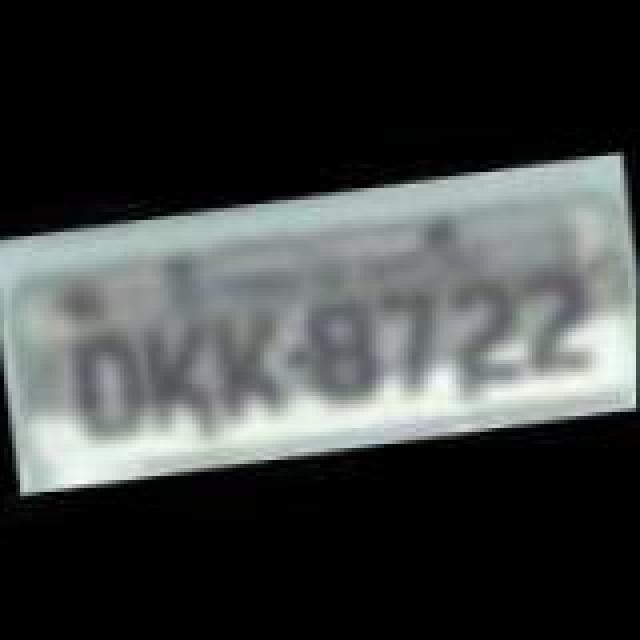2: (512, 260, 604, 380), (442, 270, 530, 390)
7: (366, 272, 446, 392)
8: (296, 282, 380, 406)
K: (204, 300, 292, 424), (132, 312, 212, 436)
O: (62, 328, 146, 448)
